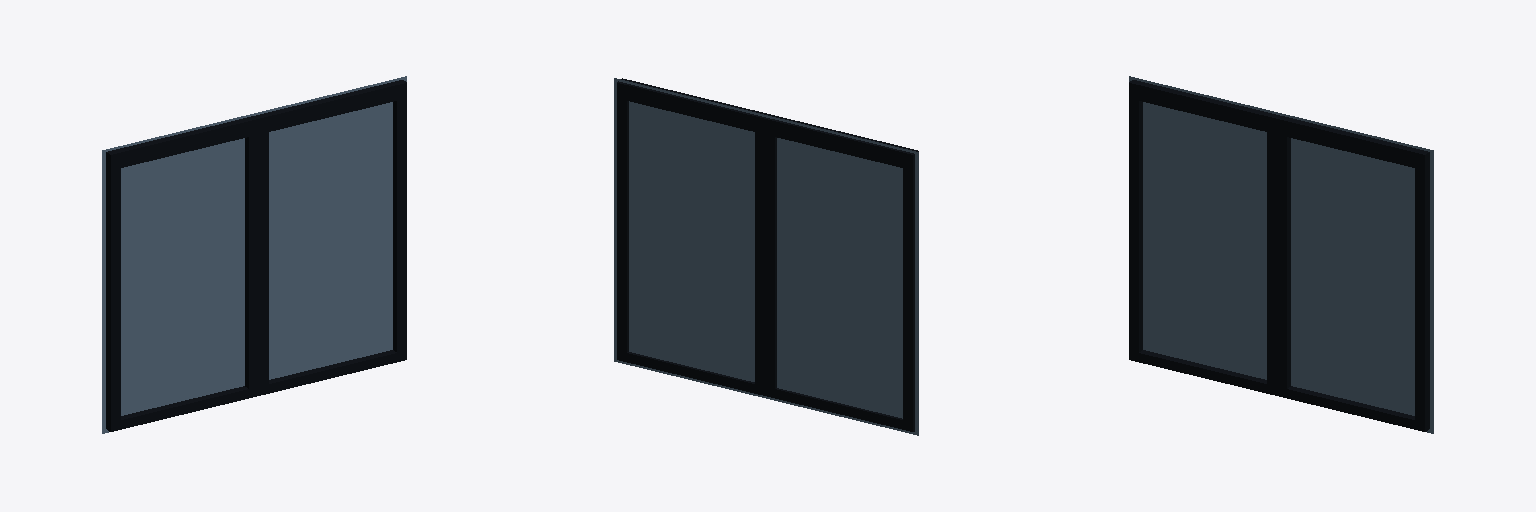
File: chuang14.obj
3 views of the same model, side by side, from view 1: azimuth 30°, elevation 25°; view 2: azimuth 150°, elevation 25°; view 3: azimuth 330°, elevation 25° (orthographic).
Visible parts, largest first — view 1: Rectangle[number redacted], Rectangle[number redacted]; view 2: Rectangle[number redacted], Rectangle[number redacted]; view 3: Rectangle[number redacted], Rectangle[number redacted].
Part boxes in pixels (x1,y1,x2,y2): Rectangle[number redacted]: (102,76,406,433); Rectangle[number redacted]: (106,80,406,431); Rectangle[number redacted]: (614,78,918,435); Rectangle[number redacted]: (617,78,918,431); Rectangle[number redacted]: (1129,76,1433,433); Rectangle[number redacted]: (1129,80,1429,431).
Bounding box in the file's own units: 18 × 16 × 0.6.